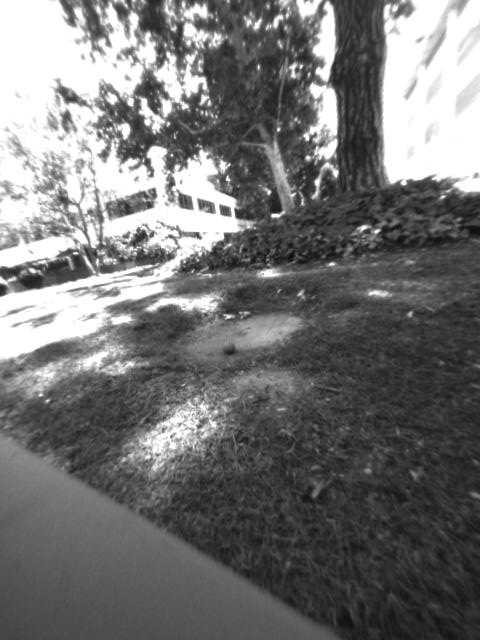dogtoy: (214, 335, 245, 361)
